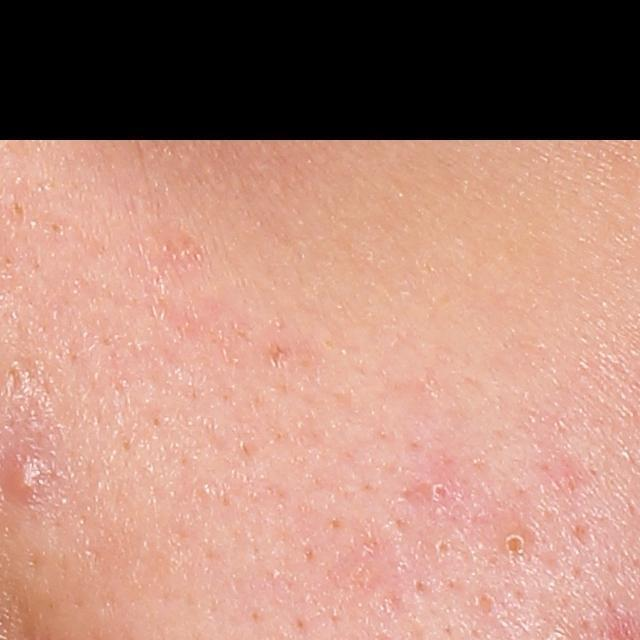comedo: (496, 527, 535, 563), (426, 473, 455, 502), (432, 538, 463, 565)
